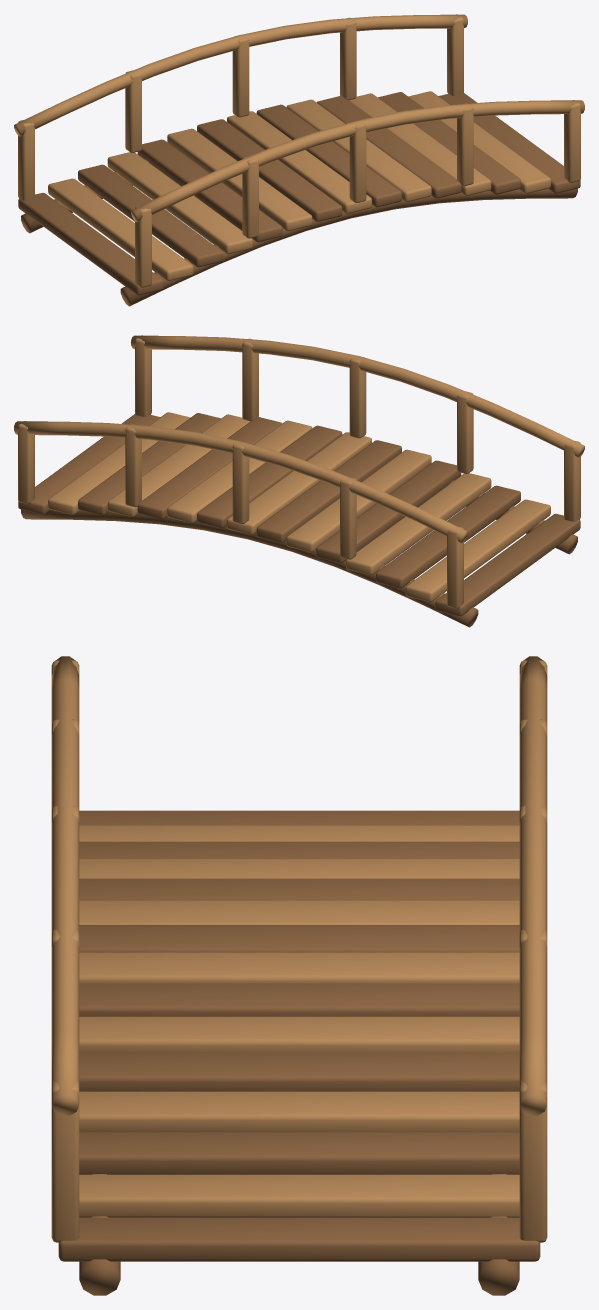
The model's file is bridge.glb.
3 renders of one model, top to bottom at view 1: azimuth 30°, elevation 25°; view 2: azimuth 150°, elevation 25°; view 3: azimuth 270°, elevation 25°, orthographic. The views are drawn at different scales.
Visible parts, largest first — view 1: bridge.001; view 2: bridge.001; view 3: bridge.001.
Boxes of the visible parts, x1,y1,x2,y2 form: bridge.001: [14, 14, 584, 306]; bridge.001: [14, 335, 584, 627]; bridge.001: [51, 656, 547, 1295].
Size of the model in its own units: 3.03 by 0.8737 by 1.44.
